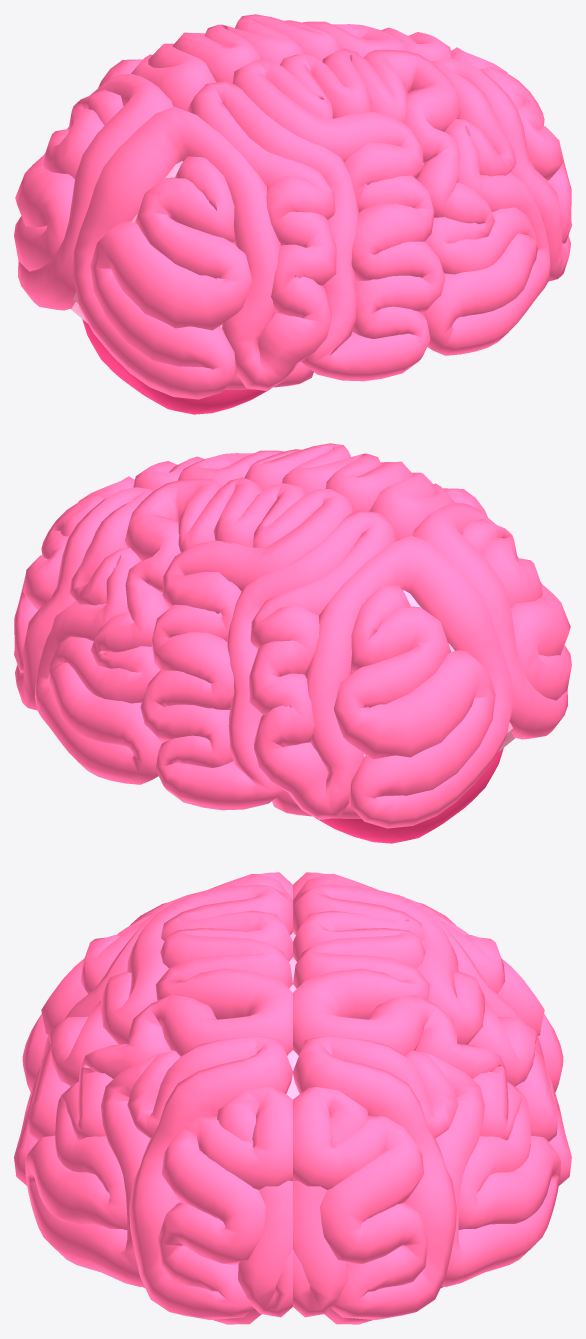
File: brain.gltf
The picture shows the model from 3 angles, top to bottom: view 1: azimuth 30°, elevation 25°; view 2: azimuth 150°, elevation 25°; view 3: azimuth 270°, elevation 25°; orthographic projection. The views are drawn at different scales.
Visible parts, largest first — view 1: Cylinder.009; view 2: Cylinder.009; view 3: Cylinder.009.
Part boxes in pixels (x1,y1,x2,y2): Cylinder.009: (14,14,571,414); Cylinder.009: (14,443,571,843); Cylinder.009: (14,872,571,1324).
Bounding box in the file's own units: 2.23 × 1.46 × 1.99.
1 material, 1 textured.
